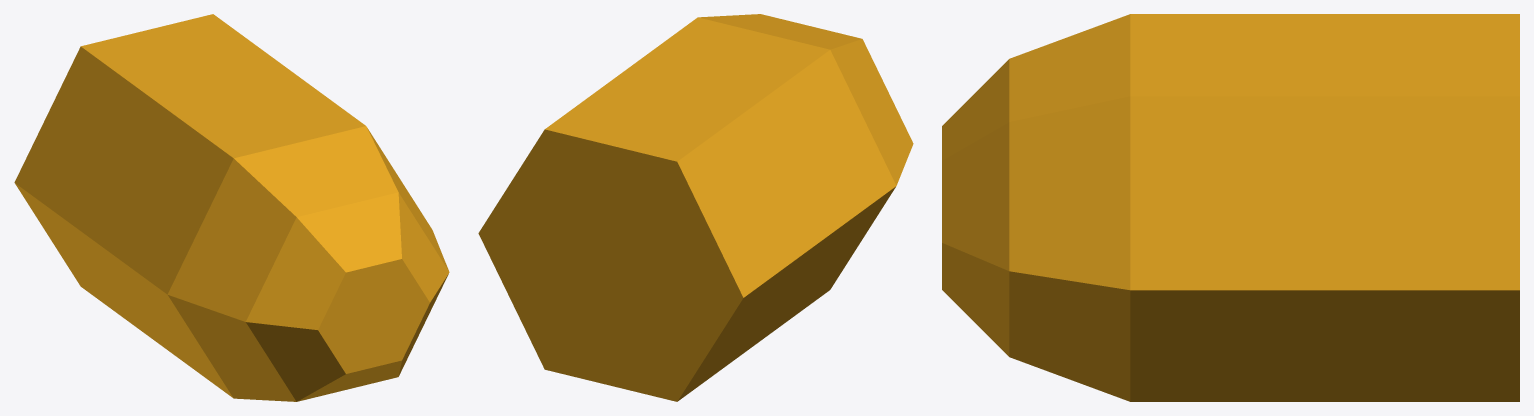
The model's file is PEW_BULLET.fbx.
3 views of the same model, side by side, from view 1: azimuth 30°, elevation 25°; view 2: azimuth 150°, elevation 25°; view 3: azimuth 270°, elevation 25° (orthographic). The views are drawn at different scales.
Parts seen in each view (by area): view 1: Bullet; view 2: Bullet; view 3: Bullet.
Boxes of the visible parts, box(x1,y1,x2,y2) form: Bullet: box(14, 14, 449, 401); Bullet: box(478, 14, 913, 401); Bullet: box(942, 14, 1519, 401).
Size of the model in its own units: 200 by 173 by 297.
